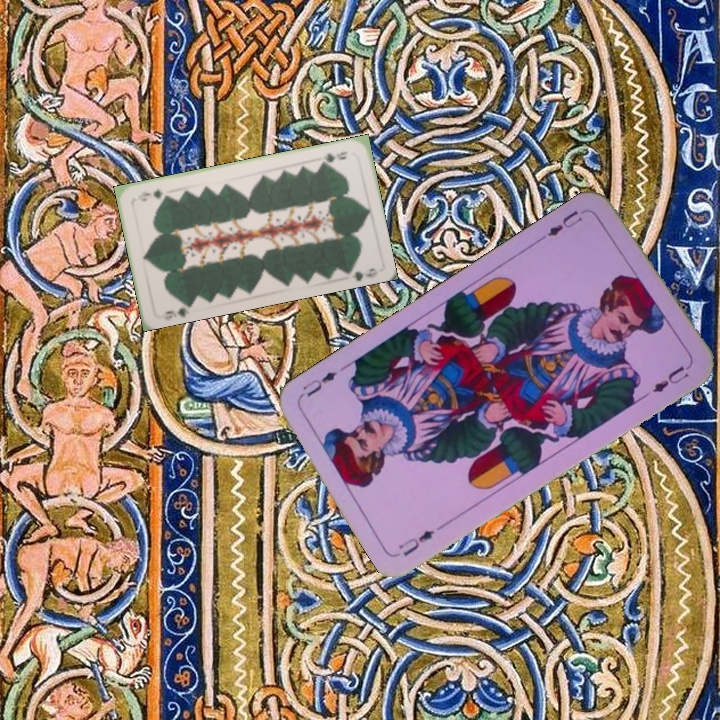EU: (543, 205, 590, 239), (394, 526, 437, 559)
G9: (160, 298, 194, 322), (316, 147, 350, 167)
